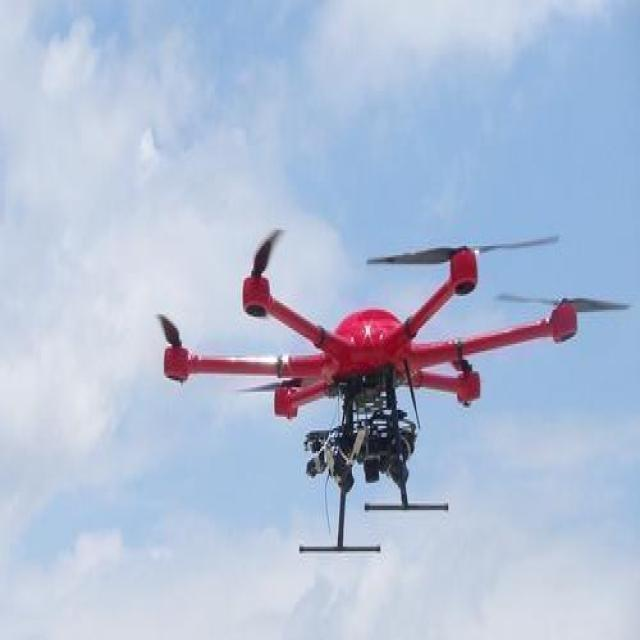drone: (156, 227, 579, 555)
